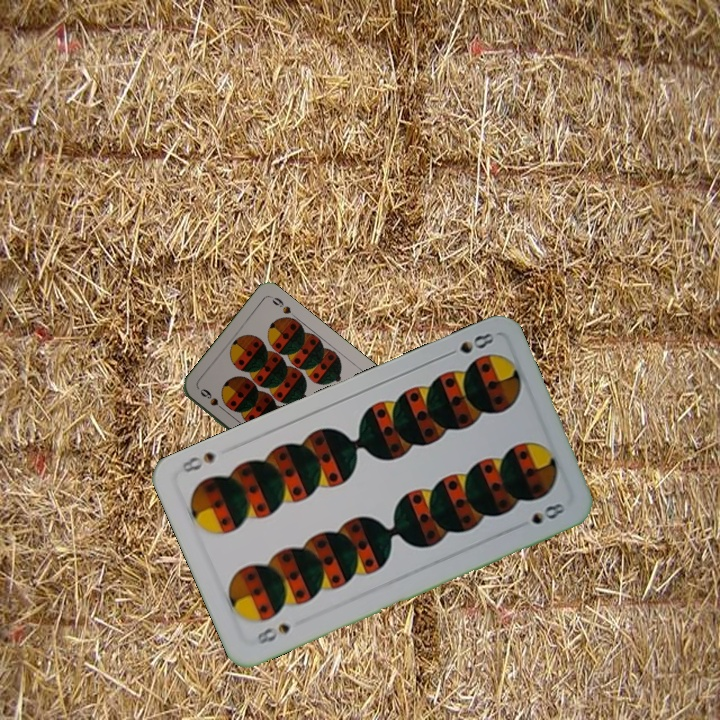S8: (440, 328, 497, 360), (253, 619, 293, 647)
S9: (196, 385, 230, 415)
